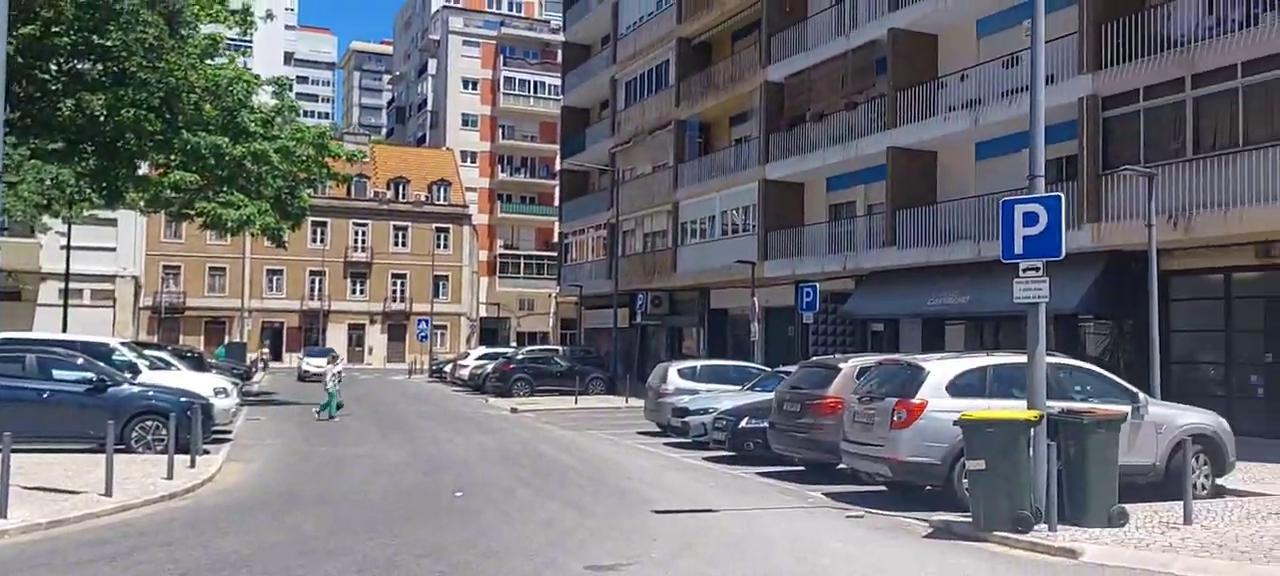Estacionamento autorizado: (995, 191, 1071, 264)
